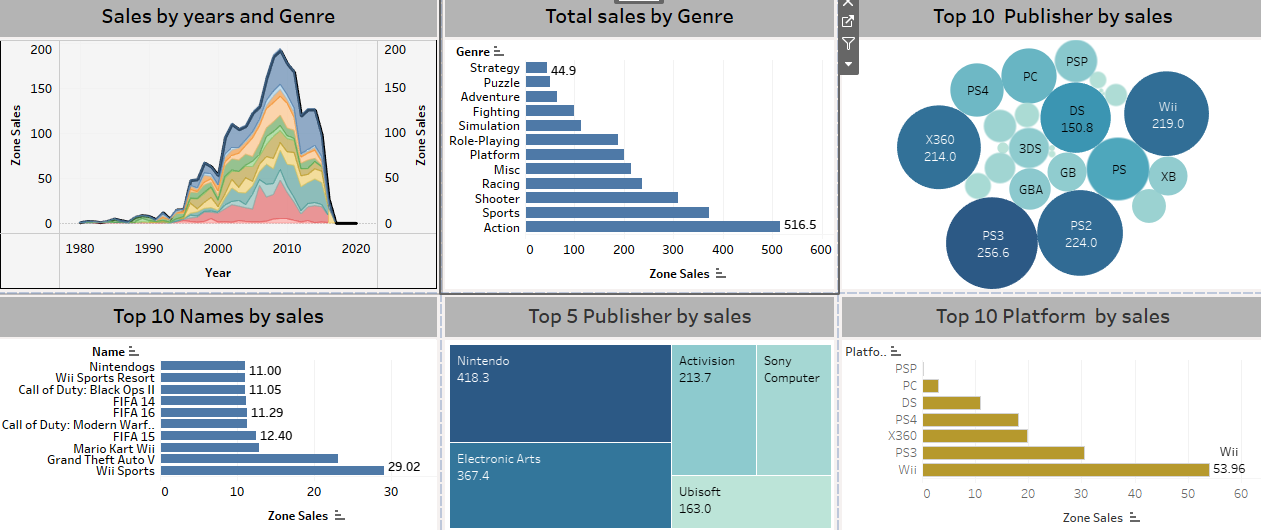

The page's visual inventory and layout, read from the dashboard file:
{"tool":"tableau","page":{"name":"Dashboard 1","canvas":[1320,560],"ordinal":0},"visuals":[{"type":"title","box":[8,8,1304,39]},{"type":"worksheet","title":"Sales by years and Genre","mark":"Automatic","rows":["Calculation_256423760535584768","Calculation_256423760535584768"],"cols":["Year"],"box":[8,47,444.6,278.5]},{"type":"worksheet","title":"Total sales by Genre","mark":"Automatic","rows":["Genre"],"cols":["Calculation_256423760535584768"],"box":[452.6,47,397.4,278.5]},{"type":"worksheet","title":"Top 10  Publisher by sales","mark":"Circle","box":[850.1,47,430,278.5]},{"type":"parameter","param":"[Parameters].[Parameter 1]","box":[1280,47,32,52]},{"type":"parameter","param":"[Parameters].[Parameter 3]","box":[1280,99,32,75]},{"type":"parameter","param":"[Parameters].[Parameter 2]","box":[1280,174,32,75]},{"type":"legend","title":"Top 10  Publisher by sales","param":"[federated.1s3k5k40ksgnn413y9v560pjhi69].[sum:Calculation_256423760535584768:qk]","box":[1280,249,32,65]},{"type":"filter","title":"Sales by years and Genre","param":"[federated.1s3k5k40ksgnn413y9v560pjhi69].[none:Genre:nk]","box":[1280,314,32,52]},{"type":"worksheet","title":"Top 10 Names by sales","mark":"Automatic","rows":["Name"],"cols":["Calculation_256423760535584768"],"box":[8,325.5,444.7,226.5]},{"type":"worksheet","title":"Top 5 Publisher by sales","mark":"Automatic","box":[452.7,325.5,397.8,226.5]},{"type":"worksheet","title":"Top 10 Platform  by sales","mark":"Automatic","rows":["Platform"],"cols":["Calculation_256423760535584768"],"box":[850.5,325.5,429.5,226.5]},{"type":"legend","title":"Sales by years and Genre","param":"[federated.1s3k5k40ksgnn413y9v560pjhi69].[none:Genre:nk]","box":[1280,366,32,186]}]}

Visuals, with their boxes in screenshot pixels (x1, y1, x2, y2), scaled from the page's 1320x560 canvas onto the 1261x530 screenshot:
title: {"x1": 8, "y1": 8, "x2": 1253, "y2": 44}
"Sales by years and Genre" worksheet: {"x1": 8, "y1": 44, "x2": 432, "y2": 308}
"Total sales by Genre" worksheet: {"x1": 432, "y1": 44, "x2": 812, "y2": 308}
"Top 10  Publisher by sales" worksheet (Circle marks): {"x1": 812, "y1": 44, "x2": 1223, "y2": 308}
parameter: {"x1": 1223, "y1": 44, "x2": 1253, "y2": 94}
parameter: {"x1": 1223, "y1": 94, "x2": 1253, "y2": 165}
parameter: {"x1": 1223, "y1": 165, "x2": 1253, "y2": 236}
"Top 10  Publisher by sales" legend: {"x1": 1223, "y1": 236, "x2": 1253, "y2": 297}
"Sales by years and Genre" filter: {"x1": 1223, "y1": 297, "x2": 1253, "y2": 346}
"Top 10 Names by sales" worksheet: {"x1": 8, "y1": 308, "x2": 432, "y2": 522}
"Top 5 Publisher by sales" worksheet: {"x1": 432, "y1": 308, "x2": 812, "y2": 522}
"Top 10 Platform  by sales" worksheet: {"x1": 812, "y1": 308, "x2": 1223, "y2": 522}
"Sales by years and Genre" legend: {"x1": 1223, "y1": 346, "x2": 1253, "y2": 522}
